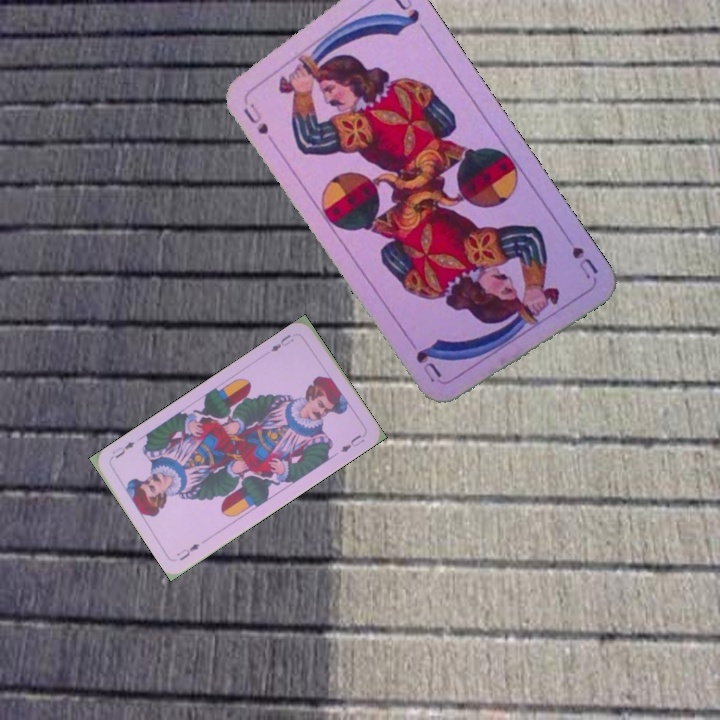EU: (266, 330, 296, 355), (172, 539, 202, 563)
SU: (568, 242, 601, 282), (239, 98, 271, 137)
